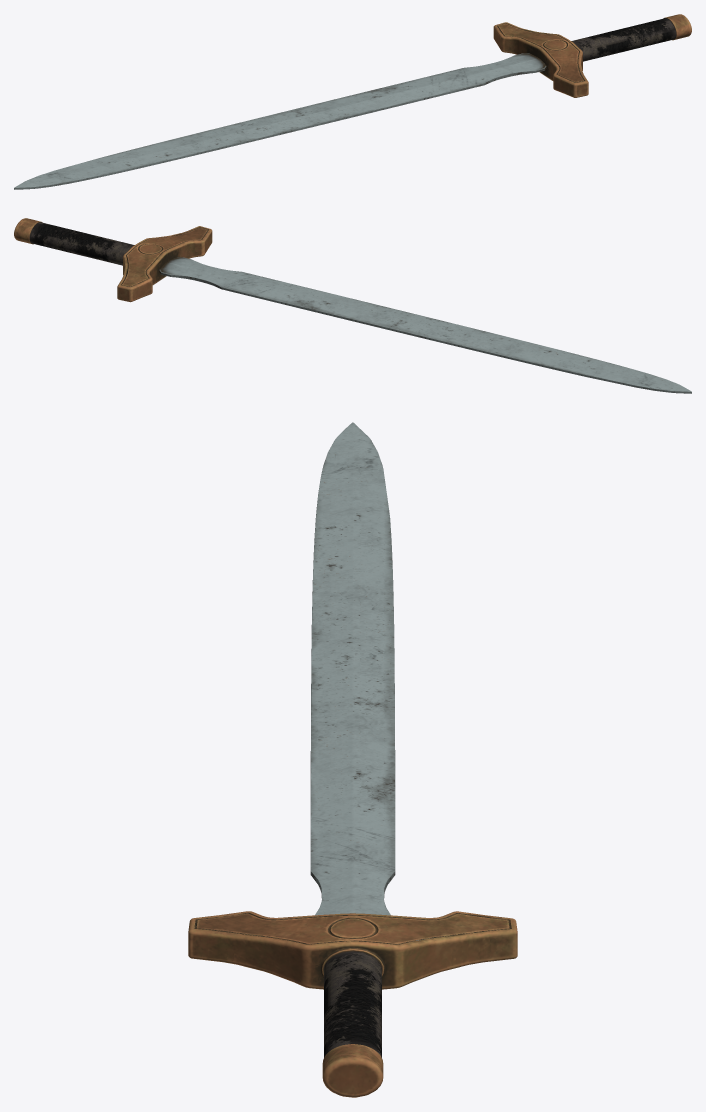
The picture shows the model from 3 angles, top to bottom: view 1: azimuth 30°, elevation 25°; view 2: azimuth 150°, elevation 25°; view 3: azimuth 270°, elevation 25°; orthographic projection. The views are drawn at different scales.
Visible parts, largest first — view 1: Solid_46_2, Extruded.002_0, Solid_106_1, Solid_99_3; view 2: Solid_46_2, Extruded.002_0, Solid_106_1, Solid_99_3; view 3: Solid_46_2, Extruded.002_0, Solid_106_1, Solid_99_3.
Boxes of the visible parts, x1,y1,x2,y2 form: Solid_46_2: (14,53,546,189); Extruded.002_0: (493,22,588,97); Solid_106_1: (571,18,676,61); Solid_99_3: (663,14,691,40); Solid_46_2: (159,257,691,393); Extruded.002_0: (117,226,212,302); Solid_106_1: (29,222,134,265); Solid_99_3: (14,218,42,244); Solid_46_2: (310,422,395,915); Extruded.002_0: (188,911,517,989); Solid_106_1: (324,951,381,1057); Solid_99_3: (322,1044,383,1097).
Bounding box in the file's own units: 5.41 × 0.1897 × 1.15.
Materials: 1 (1 with a texture image).
